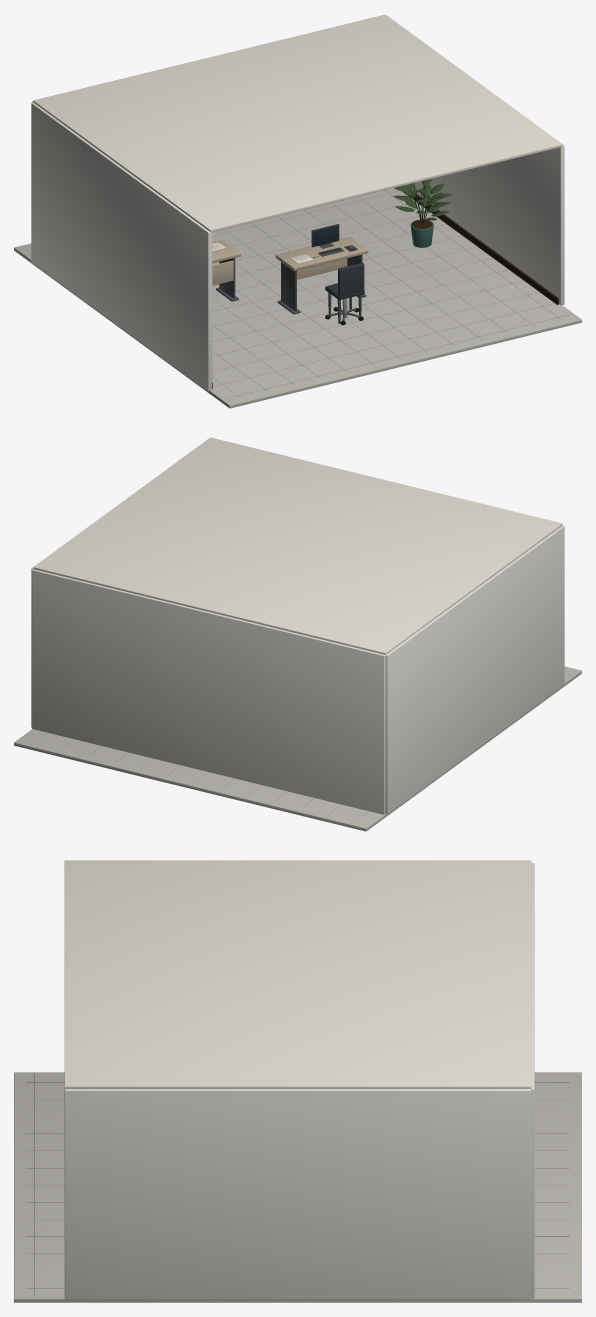
Rendered from room-office.glb.
3 renders of one model, top to bottom at view 1: azimuth 30°, elevation 25°; view 2: azimuth 150°, elevation 25°; view 3: azimuth 270°, elevation 25°, orthographic. The views are drawn at different scales.
Visible parts, largest first — view 1: Ceiling, Floor, Surface sc:officeWall.001, Surface sc:floorJoint.001, Surface sc:oat, Surface sc:steelSeam.001, Surface sc:leaf.001, Surface sc:woodEdge.003, Surface sc:charcoal.001; view 2: Surface sc:officeWall.001, Ceiling, Floor; view 3: Ceiling, Surface sc:officeWall.001, Floor, Surface sc:floorJoint.001.
Part boxes in pixels (box(x1,y1,x2,y2)): Ceiling: box(33, 14, 562, 232); Floor: box(14, 188, 581, 408); Surface sc:officeWall.001: box(31, 101, 564, 391); Surface sc:floorJoint.001: box(212, 190, 571, 398); Surface sc:oat: box(212, 236, 368, 285); Surface sc:steelSeam.001: box(216, 243, 366, 314); Surface sc:leaf.001: box(393, 178, 451, 220); Surface sc:woodEdge.003: box(212, 192, 558, 388); Surface sc:charcoal.001: box(325, 263, 364, 299); Surface sc:officeWall.001: box(31, 525, 564, 814); Ceiling: box(33, 437, 562, 654); Floor: box(14, 666, 581, 831); Ceiling: box(64, 860, 531, 1088); Surface sc:officeWall.001: box(64, 863, 534, 1299); Floor: box(14, 1072, 581, 1302); Surface sc:floorJoint.001: box(26, 1074, 569, 1296).
Bounding box in the file's own units: 13.36 × 5.89 × 14.
